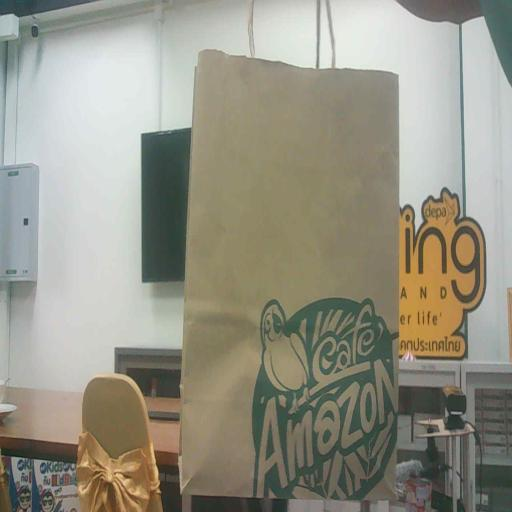bag: (173, 41, 405, 512)
